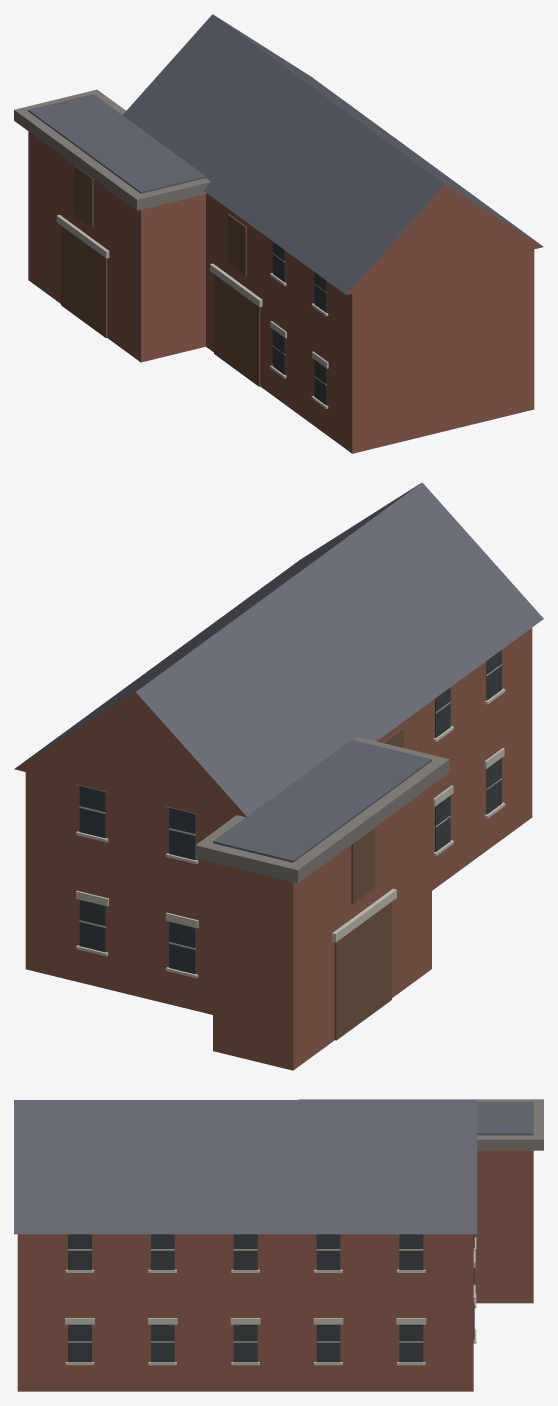
Rendered from spalding_house_1637_prairie_coach_house__draft_1904.glb.
3 views of the same model, one above another, from view 1: azimuth 30°, elevation 25°; view 2: azimuth 150°, elevation 25°; view 3: azimuth 270°, elevation 25° (orthographic). The views are drawn at different scales.
Parts seen in each view (by area): view 1: spalding_house_1637_prairie_coach_house__draft_1904; view 2: spalding_house_1637_prairie_coach_house__draft_1904; view 3: spalding_house_1637_prairie_coach_house__draft_1904.
Part boxes in pixels (box(x1,y1,x2,y2)): spalding_house_1637_prairie_coach_house__draft_1904: box(14, 14, 543, 453); spalding_house_1637_prairie_coach_house__draft_1904: box(14, 482, 543, 1070); spalding_house_1637_prairie_coach_house__draft_1904: box(14, 1099, 543, 1391).
Size of the model in its own units: 10.15 by 9.14 by 17.72.
